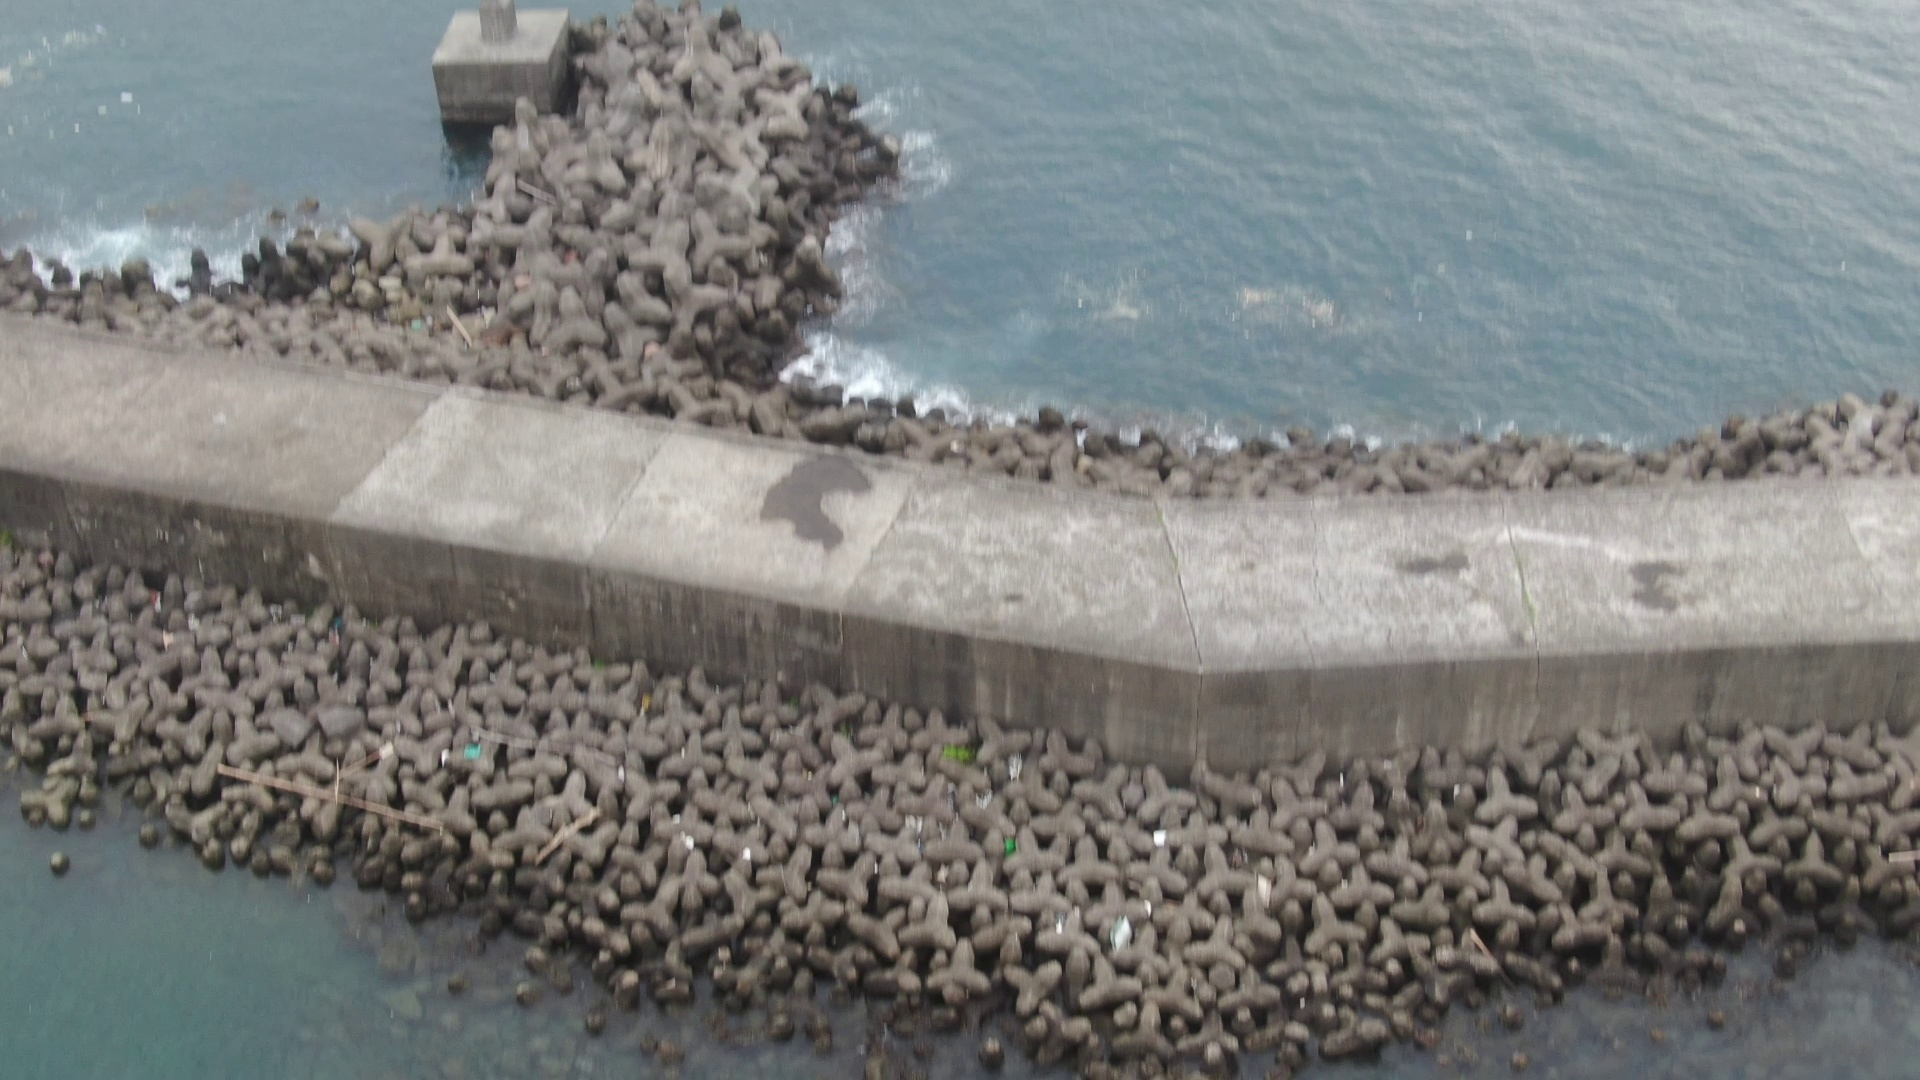garbage: (1097, 902, 1147, 963), (996, 831, 1033, 858), (455, 733, 483, 767), (1145, 822, 1172, 855)
